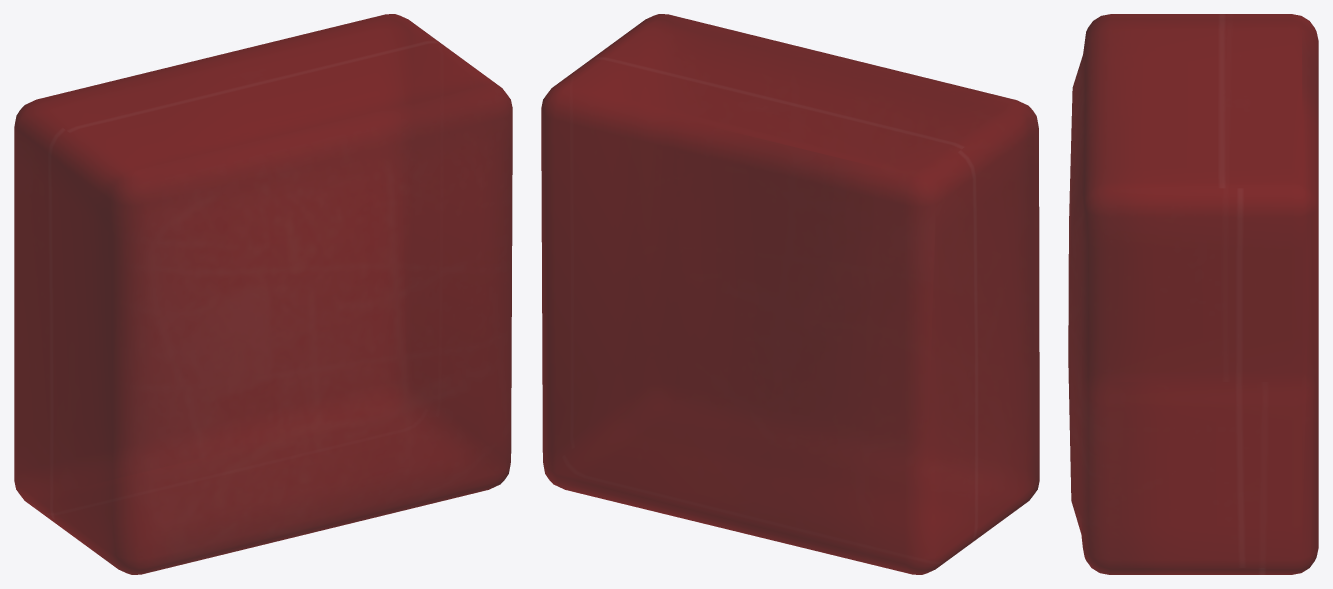
Rendered from Button_21.dae.
3 views of the same model, side by side, from view 1: azimuth 30°, elevation 25°; view 2: azimuth 150°, elevation 25°; view 3: azimuth 270°, elevation 25° (orthographic). The views are drawn at different scales.
Parts seen in each view (by area): view 1: Button_21_LOD0; view 2: Button_21_LOD0; view 3: Button_21_LOD0.
Boxes of the visible parts, box(x1,y1,x2,y2) form: Button_21_LOD0: box(14, 14, 512, 574); Button_21_LOD0: box(541, 14, 1039, 574); Button_21_LOD0: box(1068, 14, 1318, 574).
Size of the model in its own units: 6.61 by 6.39 by 3.71.
